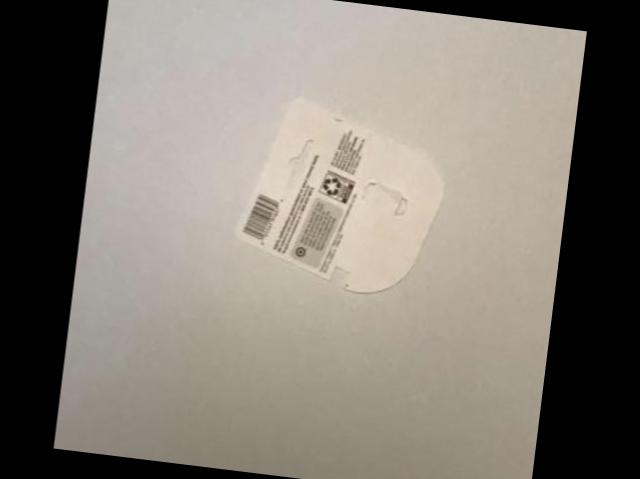cardboard paper: (239, 96, 444, 289)
